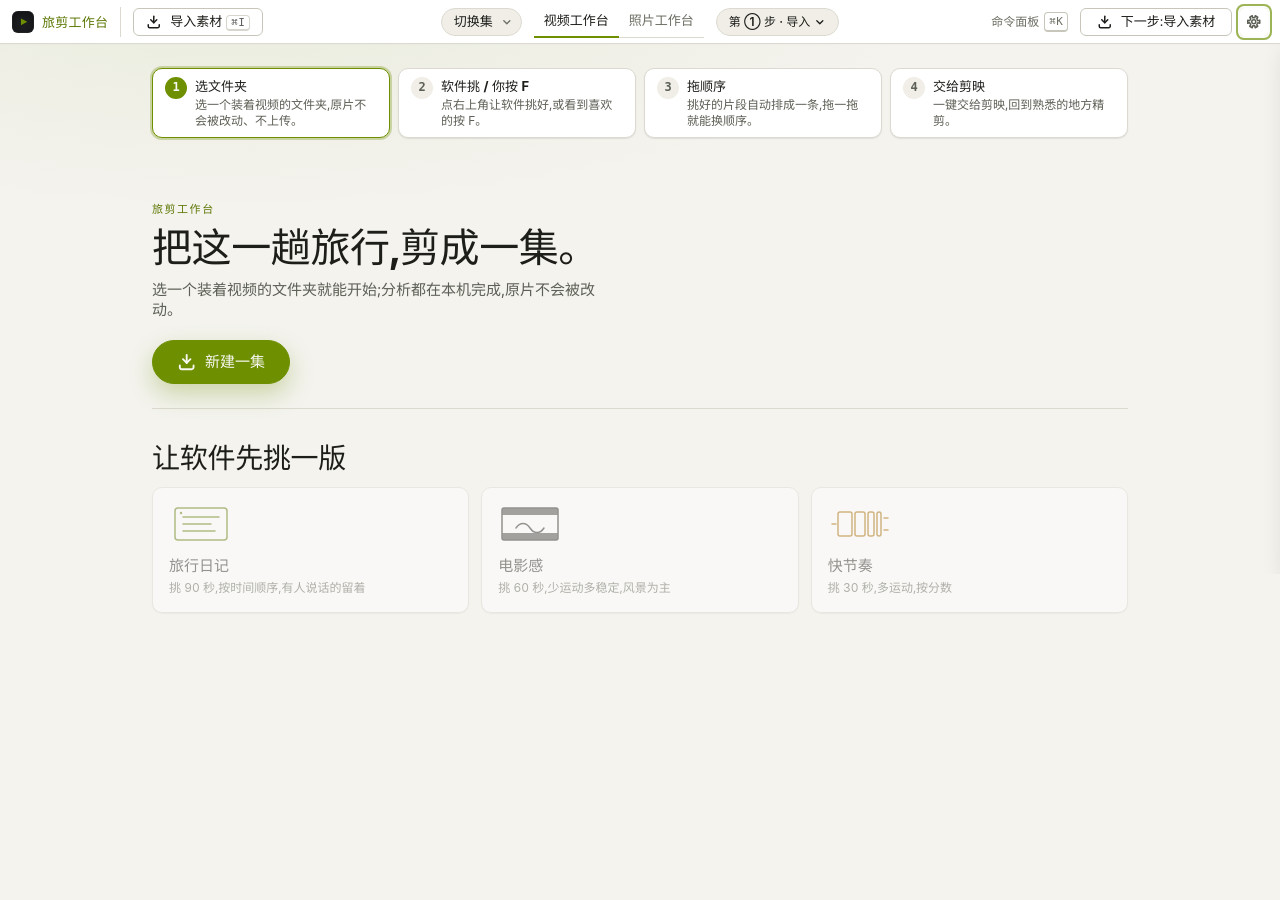
Test: 设置 › 性能 · 省电 / 低配模式(R16) › 后端已存 off 时下拉显示「关」
Click the button named "设置" at coordinates (1254, 22), box [1240,8,1268,36]
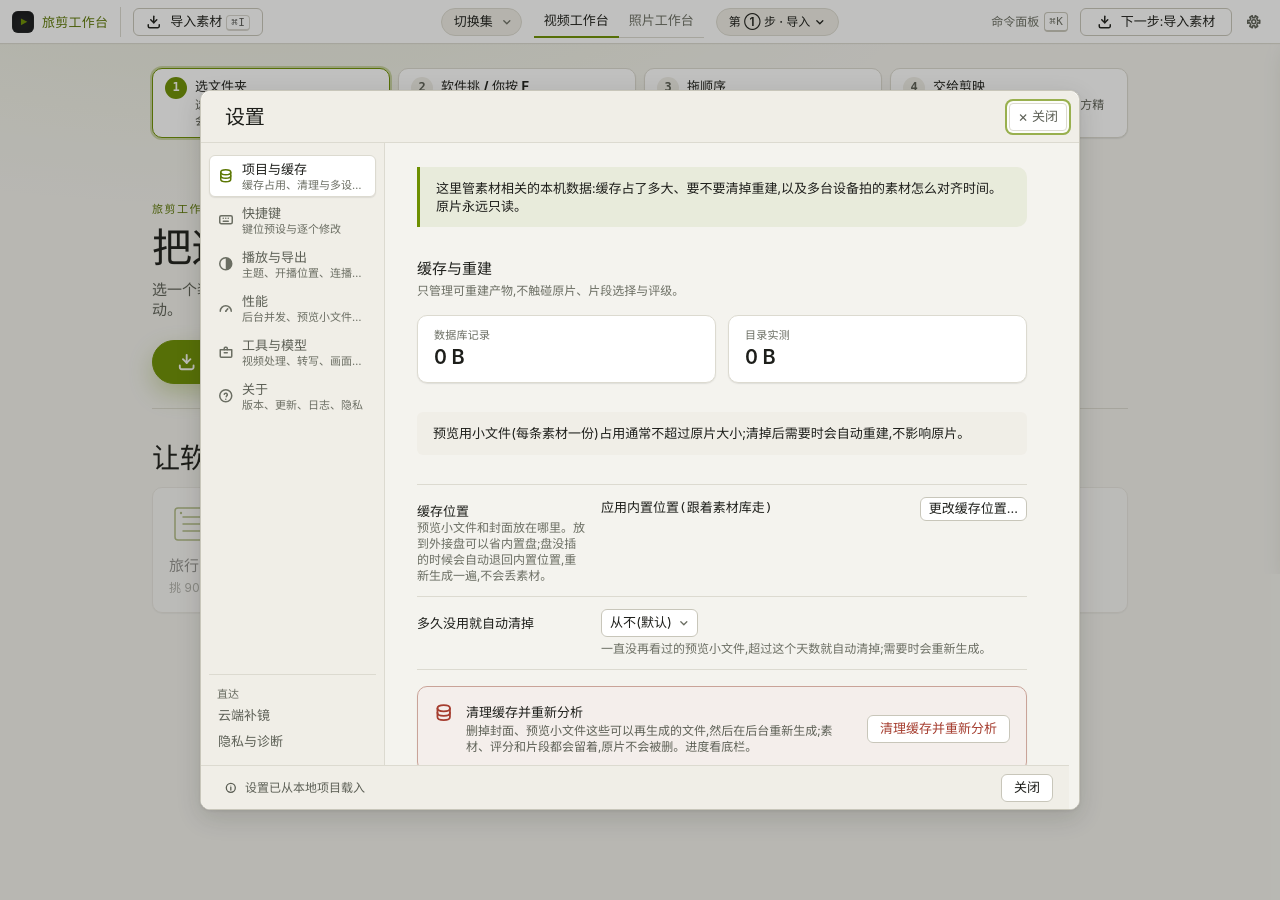
Check: the message reads "设置已从本地项目载入", box [245,780,365,794]
Click the tab "性能 后台并发、预览小文件、内存档位" at coordinates (292, 308), box [209,287,376,329]
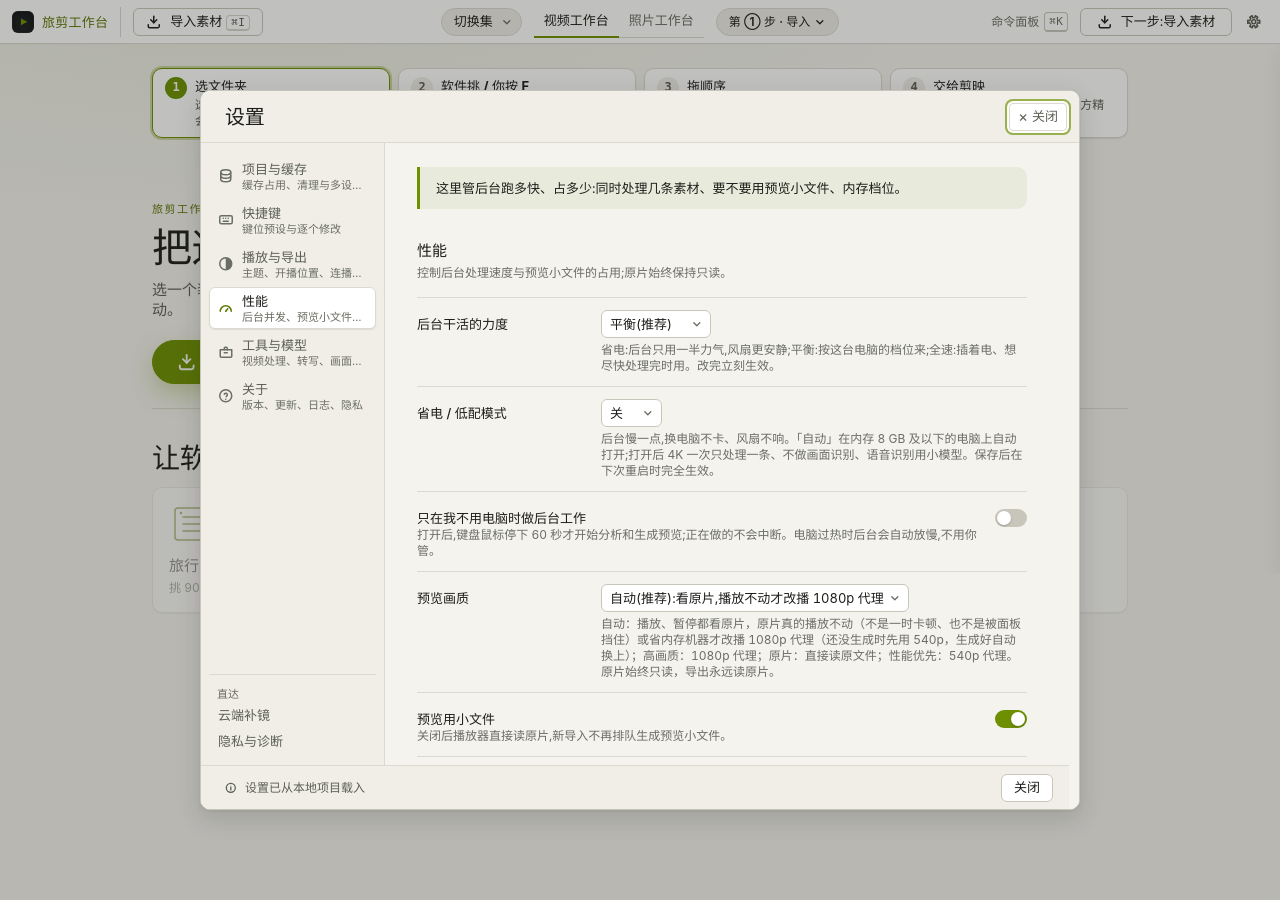
Check: the dropdown labelled "省电 / 低配模式" shows "关", box [601,399,662,427]
